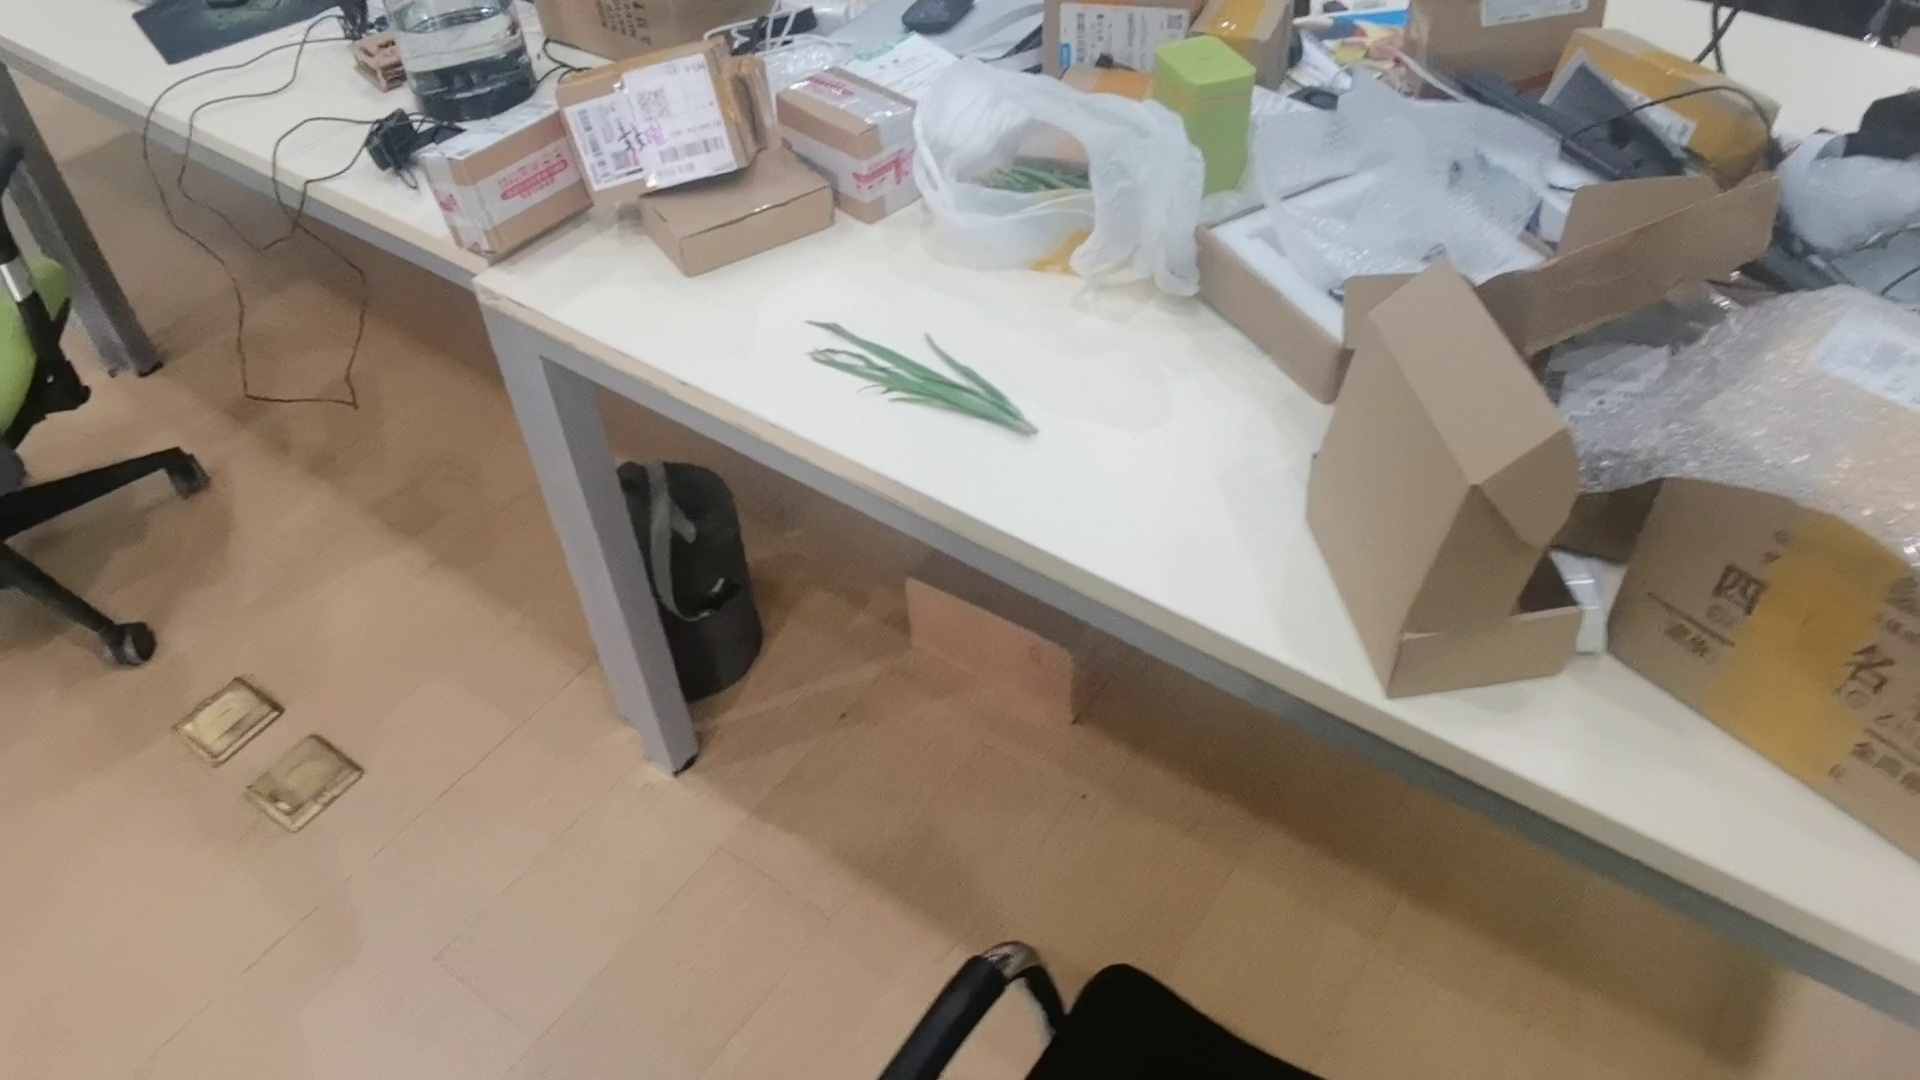chives: (800, 309, 1052, 440)
